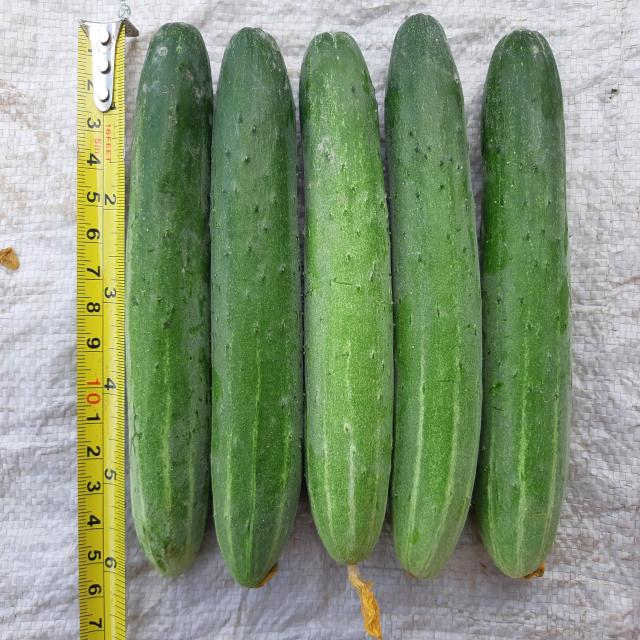cucumber: (386, 11, 482, 578), (210, 27, 302, 592), (478, 24, 570, 577), (298, 31, 392, 566), (124, 21, 212, 574)
